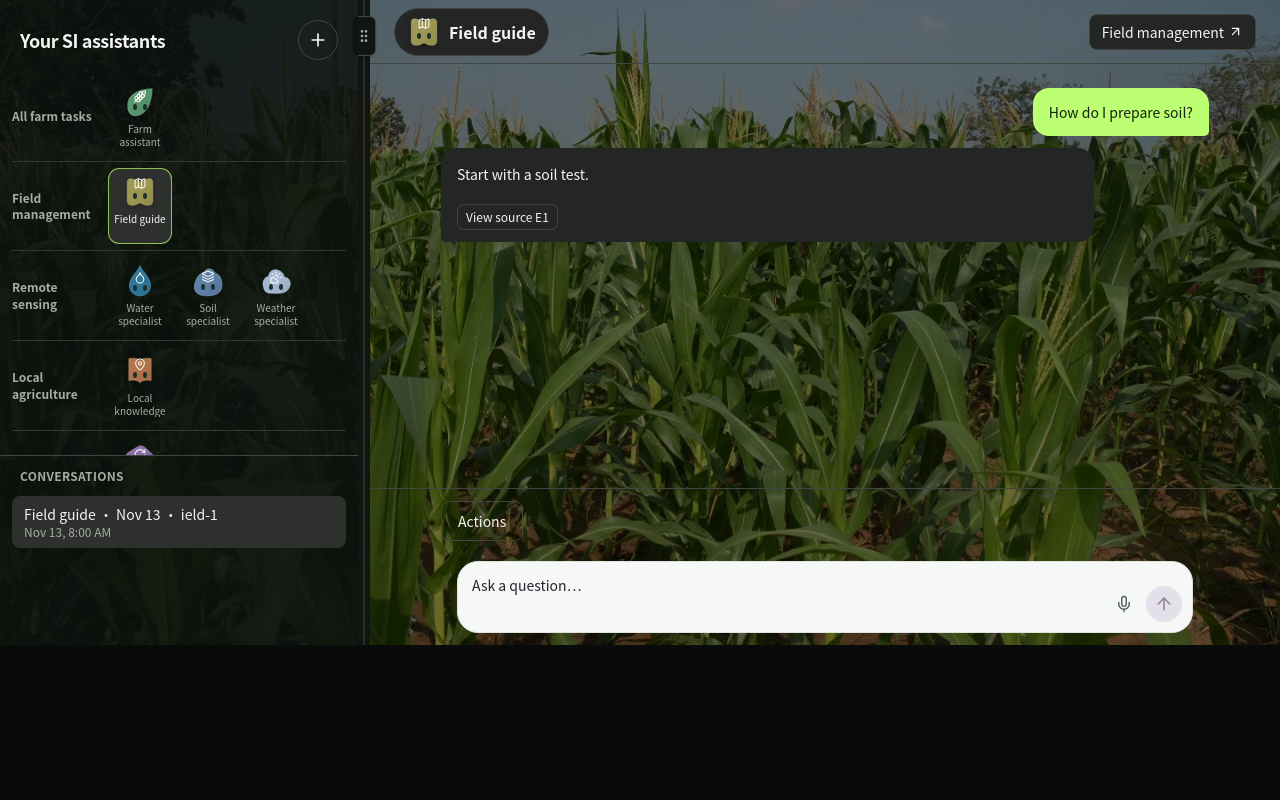
Test: opens a cited knowledge source from the main assistant workspace
This screenshot has width=1280, height=800.
Click the button "View source E1" at (507, 217), box [457,204,558,230]
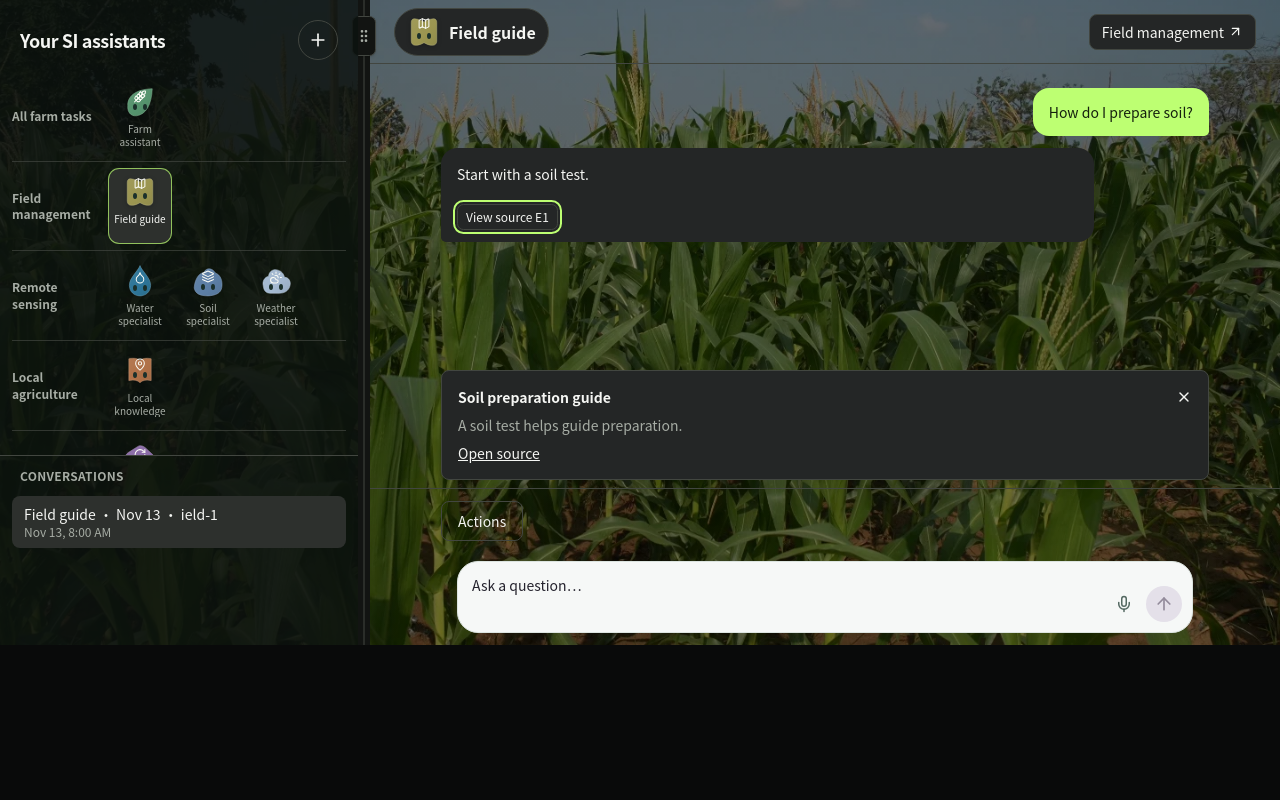
expect the text "A soil test helps guide preparation." is shown: met, box [458,415,682,435]
